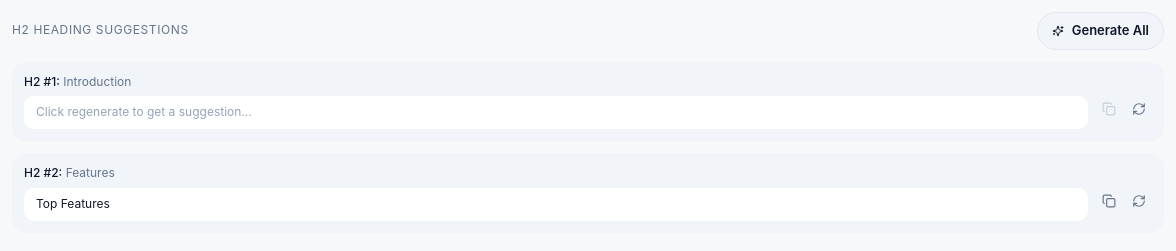
Test: H2SelectionList inline failure messages › marks only the failed item after a per-item regenerate fails
Click the 1st button titled "Regenerate" at (1139, 109), box [1126, 96, 1152, 122]
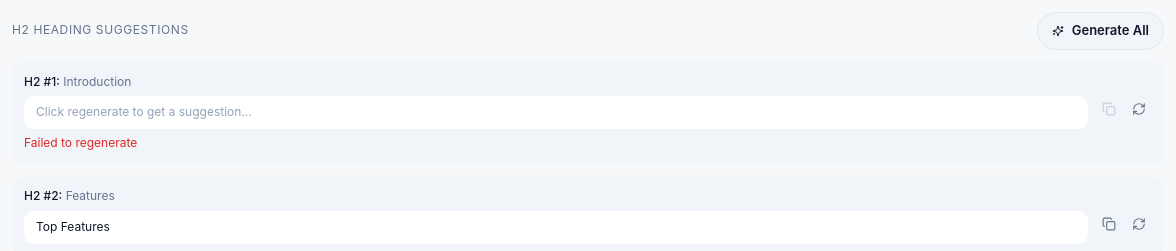
Now the number of messages is 1, box [24, 135, 137, 150]
Now the message reads "Failed to regenerate", box [24, 135, 137, 150]
